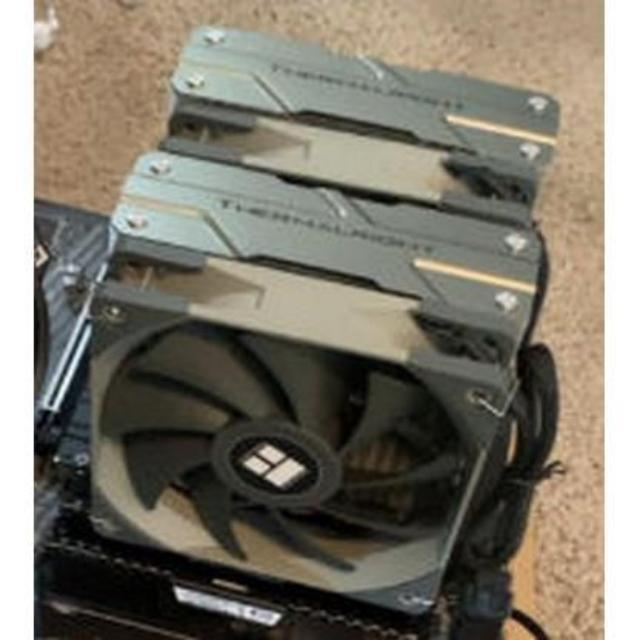CPU_Fan: (90, 22, 536, 620)
